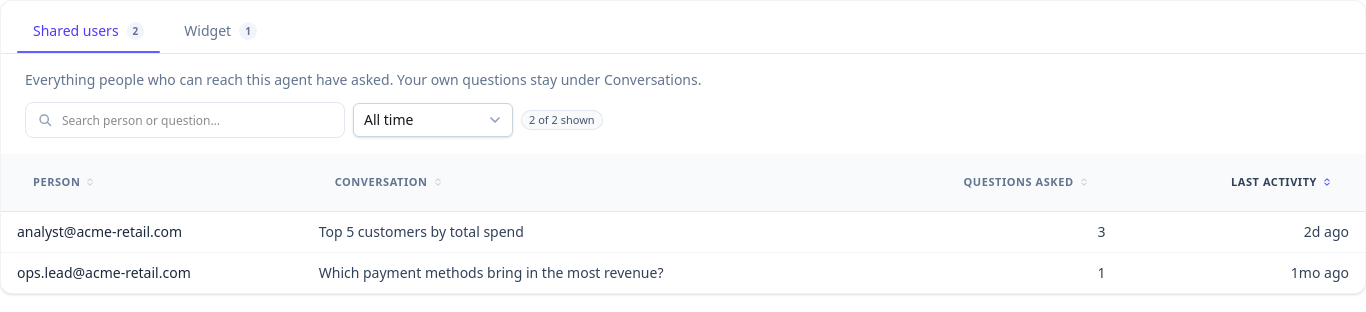
Test: Share → Activity › filters by search and says how much of the list is showing
Expected: the text "2 of 2 shown" is shown, [521,110,603,130]
Type "payment" into the field named "Search activity" at (185, 120), box [25,102,345,138]
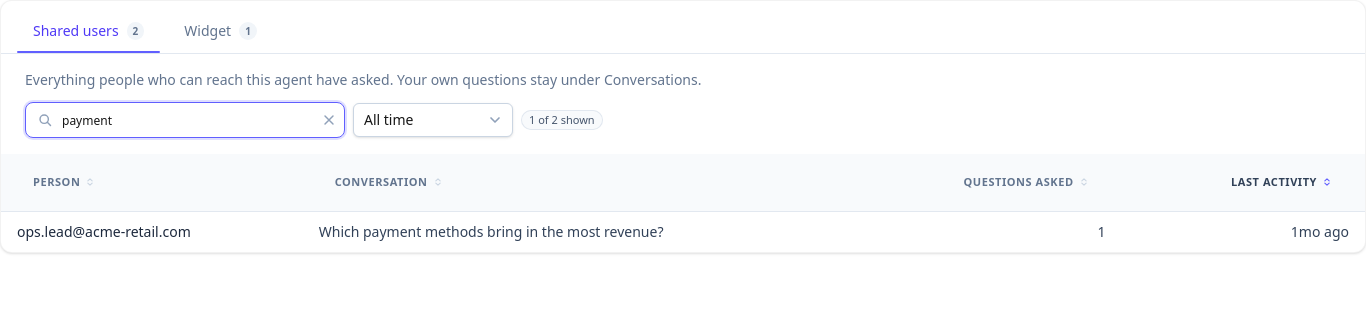
Result: the text "1 of 2 shown" is shown at [521,110,603,130]
